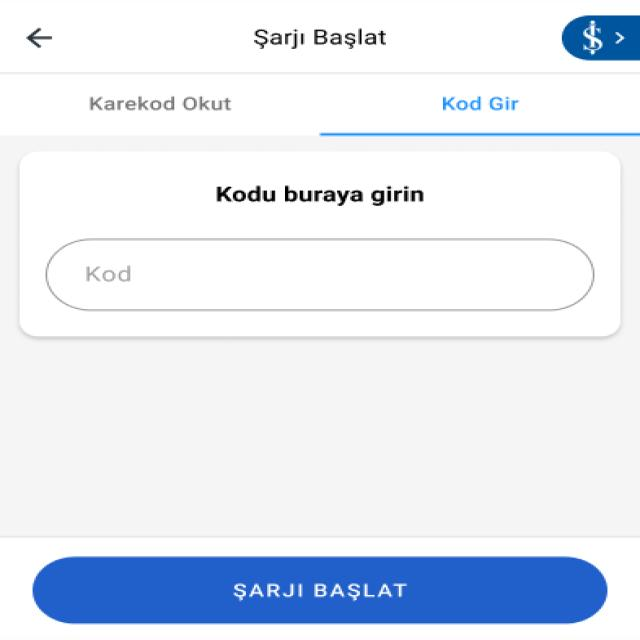QLabel: (208, 184, 427, 207), (229, 581, 411, 601), (248, 27, 392, 50), (81, 95, 235, 113), (436, 94, 522, 113)
VAppBar: (0, 0, 640, 73)
VBtn: (28, 557, 610, 625)
VCard: (20, 148, 621, 338)
VFooter: (0, 536, 640, 640)
VIcon: (18, 25, 61, 52)
VImg: (562, 15, 640, 61)
VTab: (321, 84, 635, 125), (28, 84, 300, 125)
VTabs: (0, 75, 640, 139)
VTextField: (45, 238, 596, 310)
